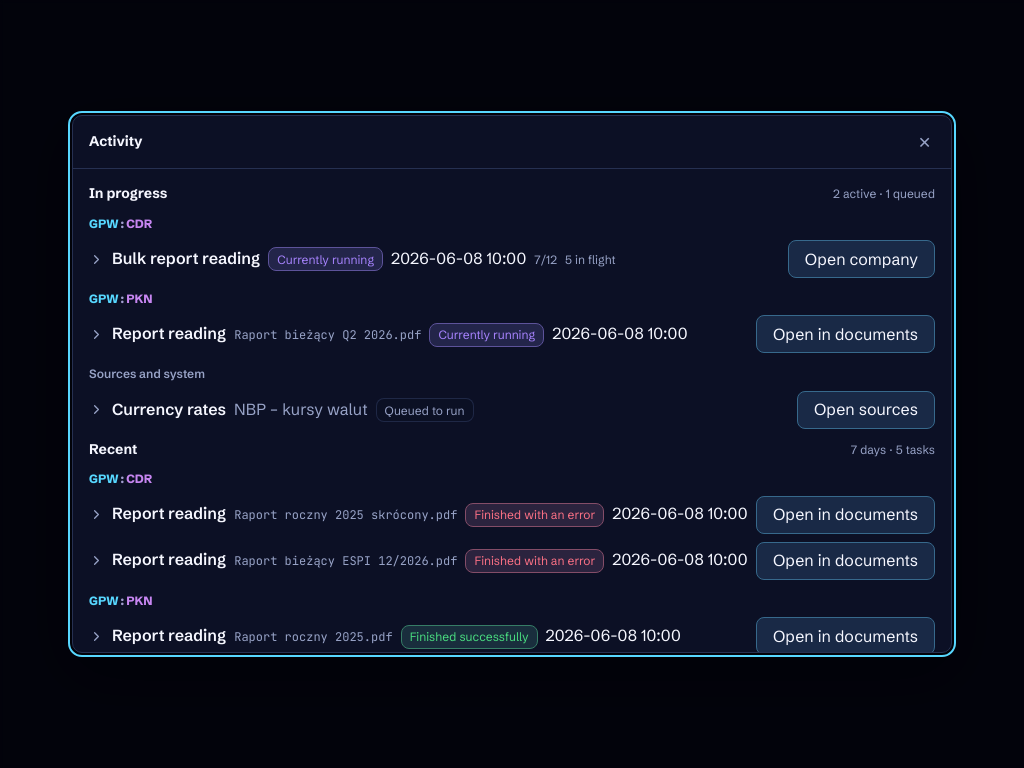
ActivityPanel contract (en) › expanded failed row shows the raw error text verbatim
The width and height of the screenshot is (1024, 768).
Expected: the 4th element with class "activity-item" is shown, [89,496,935,534]
Click the 4th button with class "expandable-row" at coordinates (420, 515), box [89,502,752,527]
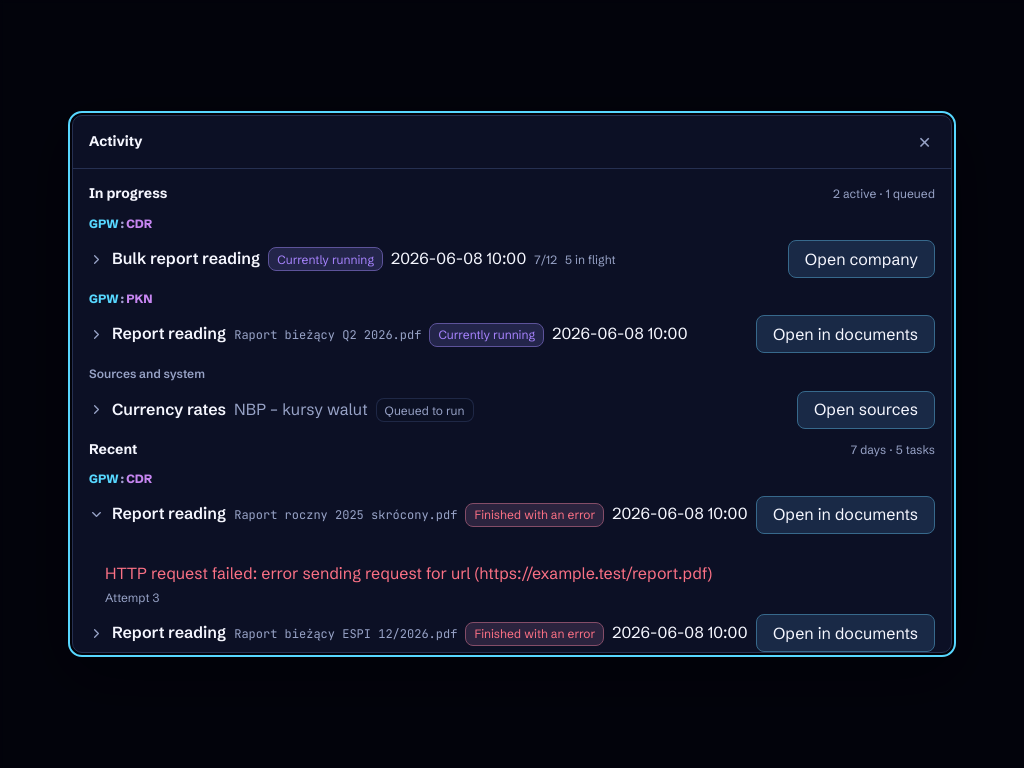
Now the text "HTTP request failed: error sending request for url (https://example.test/report.pdf)" is shown, box [105,563,712,583]
